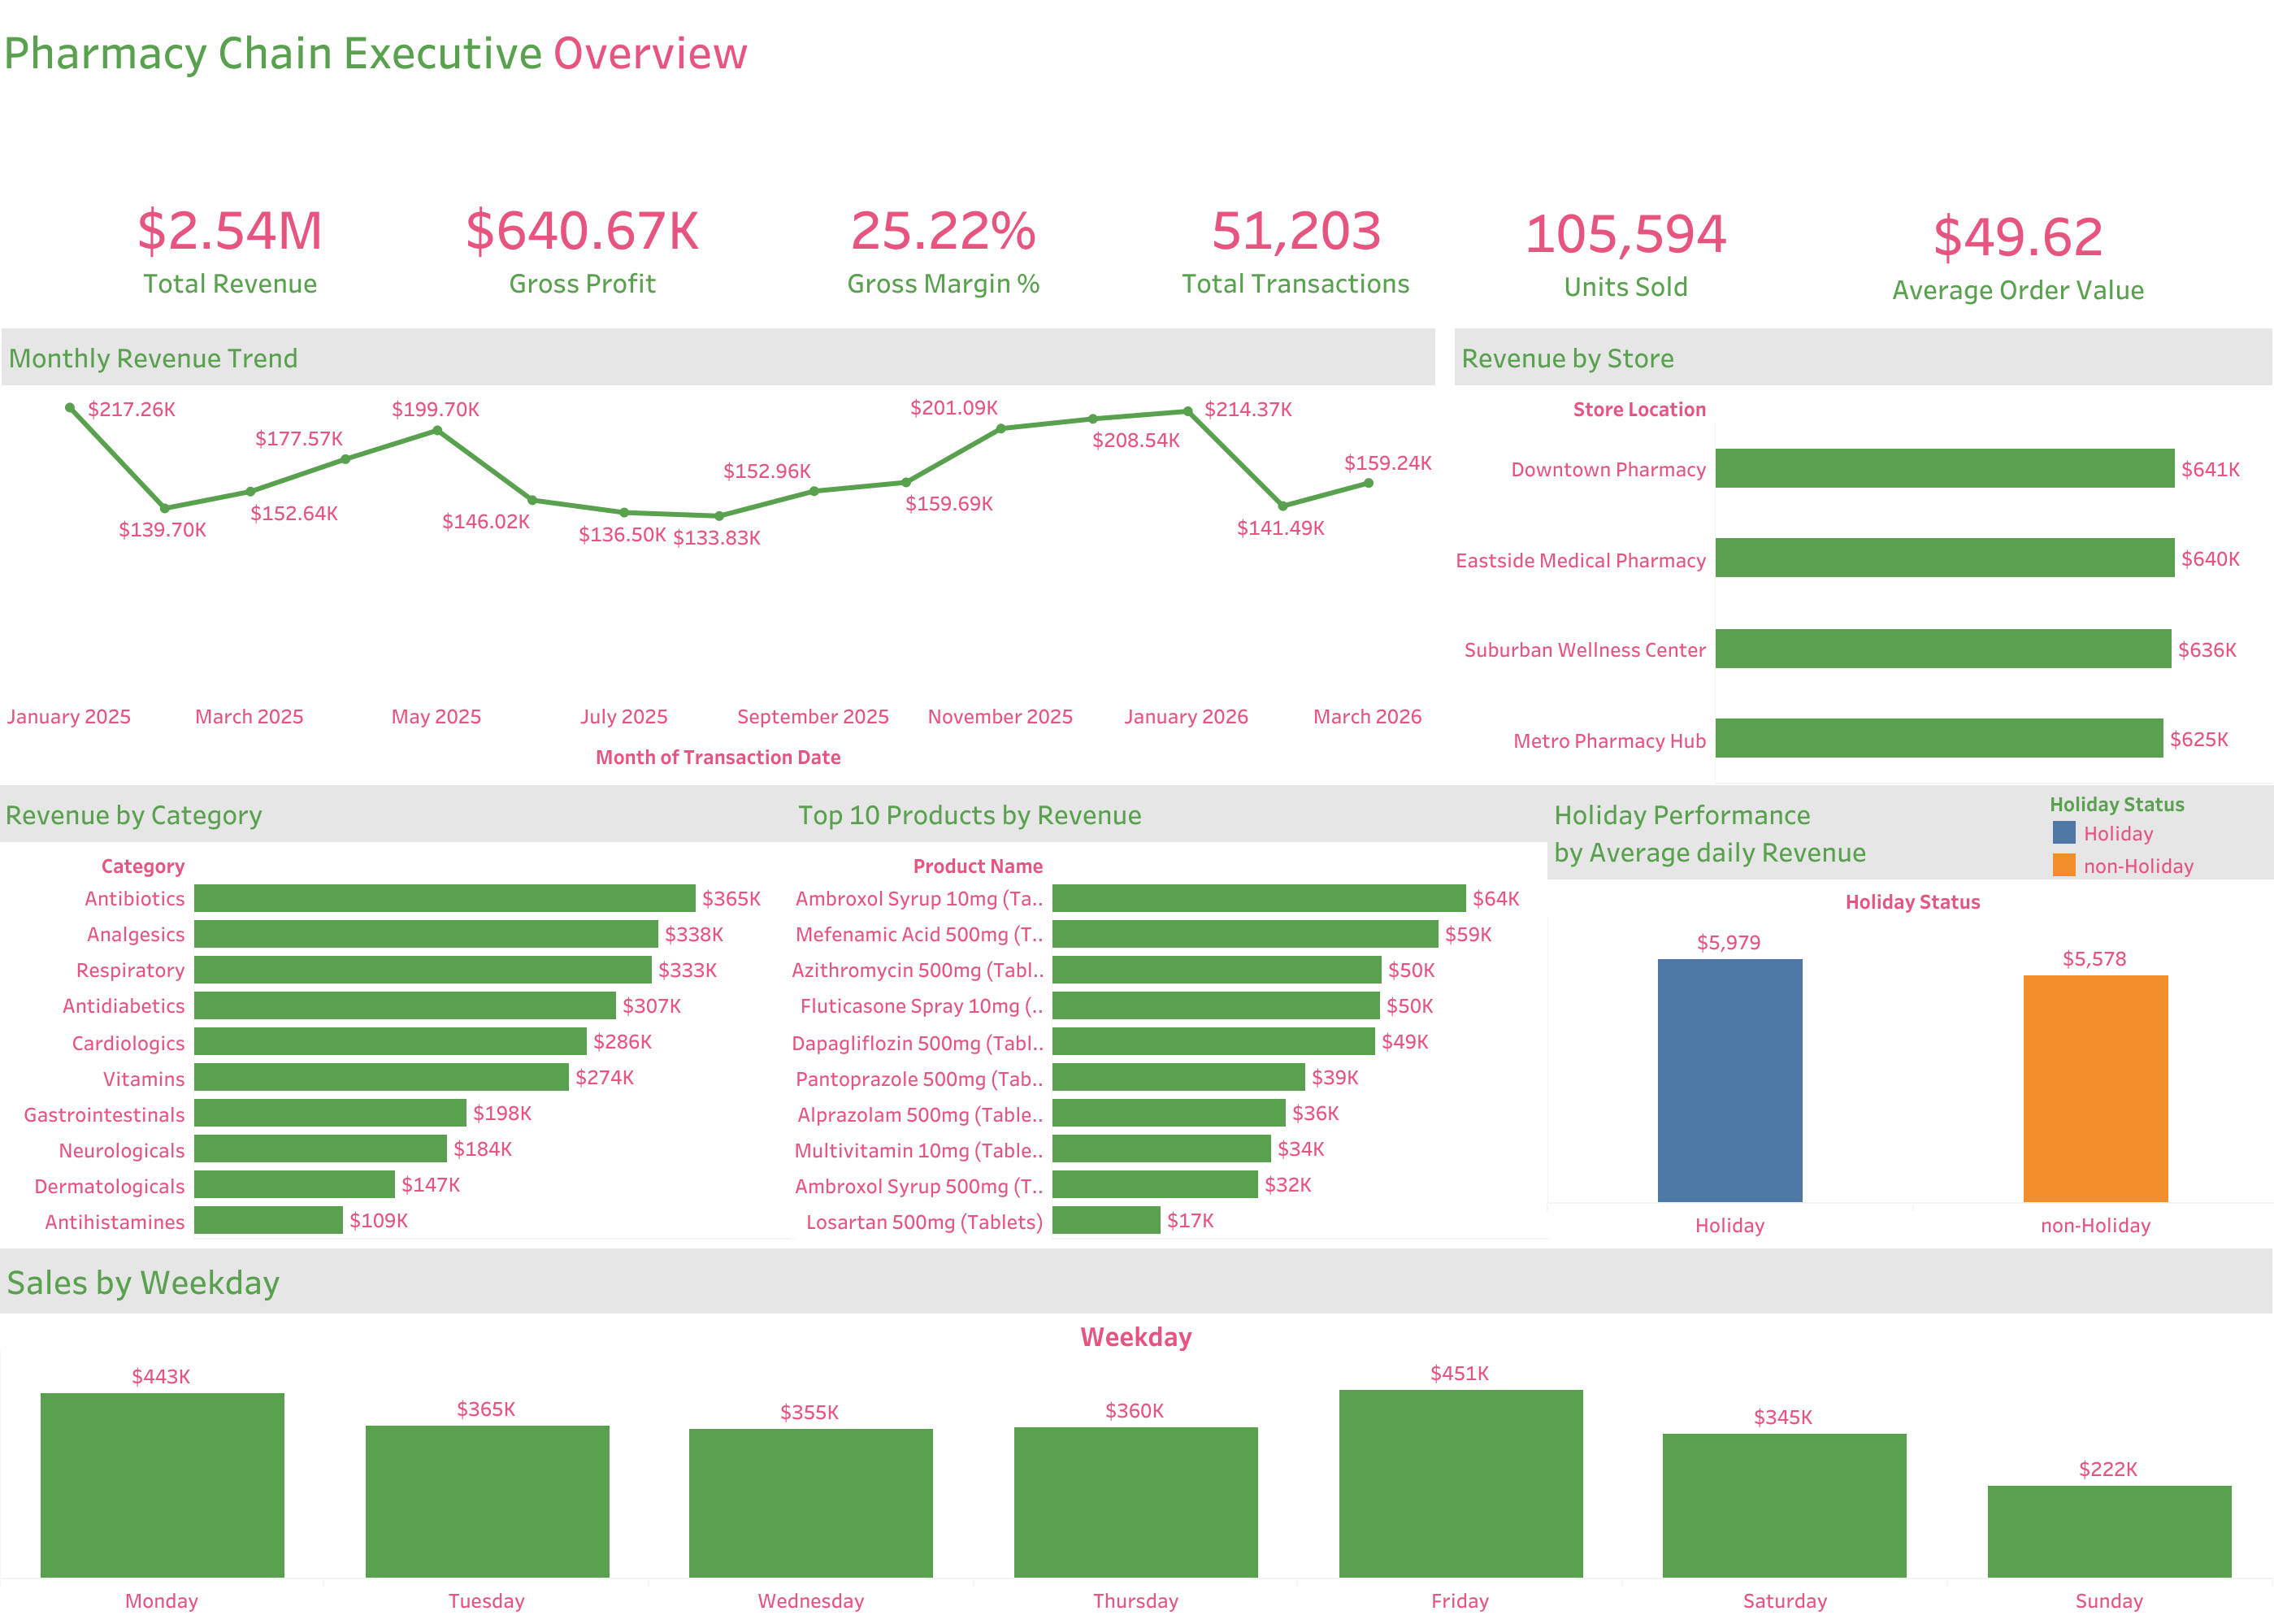

This screenshot's page, from the dashboard's own definition file:
{"tool":"tableau","page":{"name":"Executive Overview","canvas":[1400,1000],"ordinal":0},"visuals":[{"type":"worksheet","title":"Total Revenue","mark":"Automatic","box":[3,94,278,116]},{"type":"worksheet","title":"Gross Profit","mark":"Automatic","box":[244,99,230,106]},{"type":"worksheet","title":"Gross Margin %","mark":"Automatic","box":[451,102,260,100]},{"type":"worksheet","title":"Total Transactions","mark":"Automatic","box":[668,105,260,94]},{"type":"worksheet","title":"Units Sold","mark":"Automatic","box":[883,106,235,96]},{"type":"worksheet","title":"Average Order Value","mark":"Automatic","box":[1091,108,302,96]},{"type":"worksheet","title":"Monthly Revenue Trend","mark":"Automatic","rows":["sales_amount"],"cols":["transaction_date"],"box":[1,202,882,279]},{"type":"worksheet","title":"Revenue by Store","mark":"Automatic","rows":["store_location"],"cols":["sales_amount"],"box":[895,202,503,280]},{"type":"worksheet","title":"Top 10 Products","mark":"Automatic","rows":["product_name"],"cols":["sales_amount"],"box":[487,483,466,279]},{"type":"worksheet","title":"Holiday Performance","mark":"Automatic","rows":["Calculation_0148125732913157"],"cols":["Calculation_0148125732024324"],"box":[952,483,450,279]},{"type":"legend","title":"Holiday Performance","param":"[federated.0u0fjm106lzffa1e9xu5q1n52rud].[none:Calculation_0148125732024324:nk]","box":[1260,483,141,58]},{"type":"worksheet","title":"Sales by Weekday","mark":"Automatic","rows":["sales_amount"],"cols":["Calculation_0148125730172931"],"box":[0,768,1398,225]}]}

Visuals, with their boxes in screenshot pixels (x1, y1, x2, y2), scaled from the page's 1400x1000 canvas onto the 2274x1624 screenshot:
"Total Revenue" worksheet: x1=5, y1=153, x2=457, y2=341
"Gross Profit" worksheet: x1=397, y1=161, x2=770, y2=333
"Gross Margin %" worksheet: x1=732, y1=166, x2=1155, y2=328
"Total Transactions" worksheet: x1=1085, y1=171, x2=1508, y2=323
"Units Sold" worksheet: x1=1434, y1=172, x2=1816, y2=328
"Average Order Value" worksheet: x1=1772, y1=176, x2=2263, y2=332
"Monthly Revenue Trend" worksheet: x1=2, y1=328, x2=1434, y2=781
"Revenue by Store" worksheet: x1=1454, y1=328, x2=2271, y2=783
"Top 10 Products" worksheet: x1=791, y1=784, x2=1548, y2=1237
"Holiday Performance" worksheet: x1=1547, y1=784, x2=2273, y2=1237
"Holiday Performance" legend: x1=2046, y1=784, x2=2273, y2=879
"Sales by Weekday" worksheet: x1=0, y1=1247, x2=2271, y2=1613
